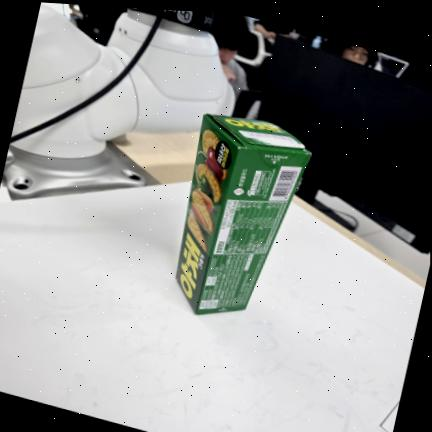cracker_vege: (176, 114, 311, 314)
